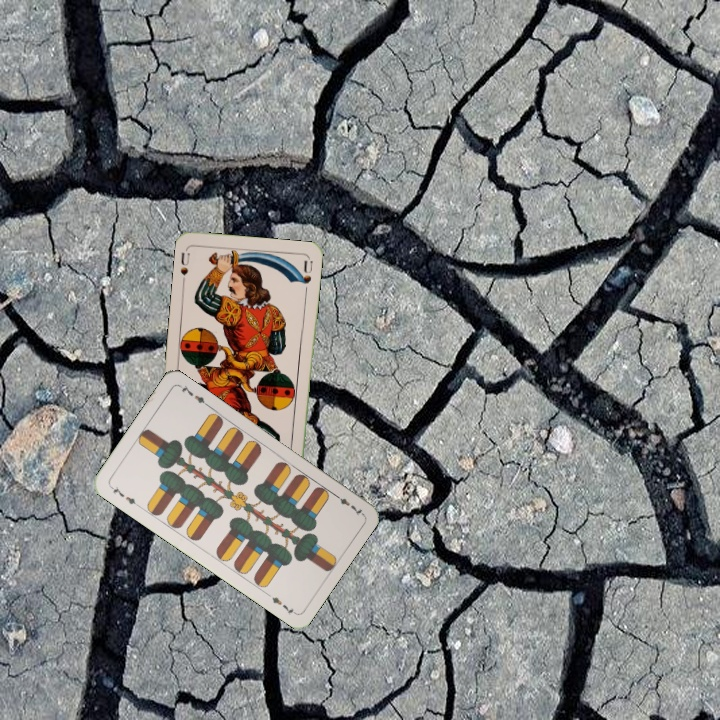E7: (329, 489, 365, 519), (106, 482, 142, 510)
SU: (176, 248, 192, 286)
